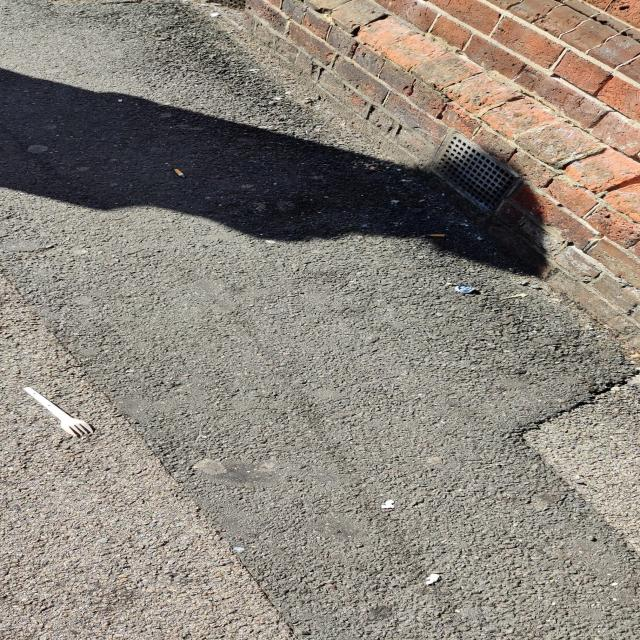litter: (22, 385, 97, 441)
